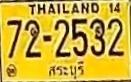2: (54, 18, 70, 57), (24, 18, 40, 57), (108, 17, 123, 55)
3: (90, 18, 104, 55)
5: (71, 18, 87, 55)
7: (6, 19, 21, 57)
SRI: (47, 60, 86, 80)
